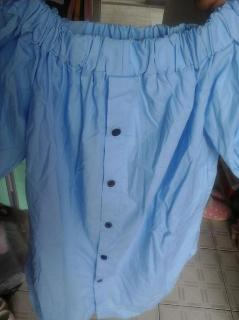long sleeve dress: (2, 0, 239, 319)
